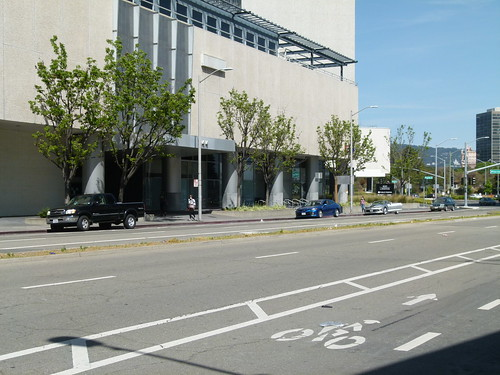building: (1, 1, 363, 197), (359, 125, 391, 184), (472, 112, 500, 162)
car: (48, 189, 149, 231), (295, 197, 345, 222), (367, 196, 400, 214), (433, 196, 456, 210)
sky: (367, 1, 500, 126)
street: (1, 210, 500, 373)
tree: (45, 68, 177, 203), (217, 94, 296, 210), (316, 113, 379, 200), (387, 127, 425, 201)
